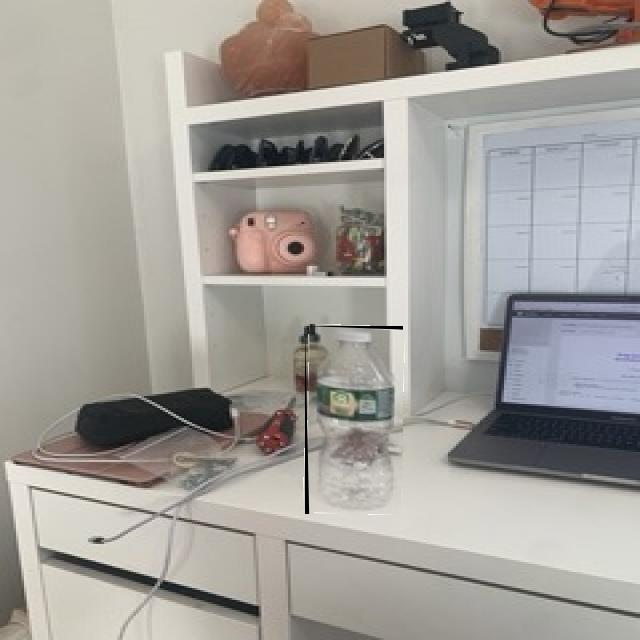water_bottle: (305, 326, 403, 514)
